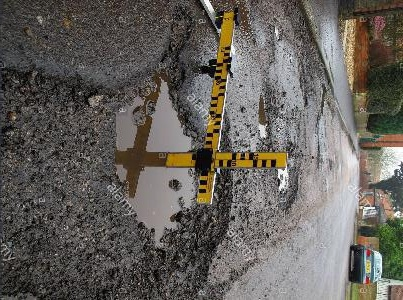pothole: (70, 62, 238, 299), (274, 142, 306, 211), (256, 89, 273, 143)
